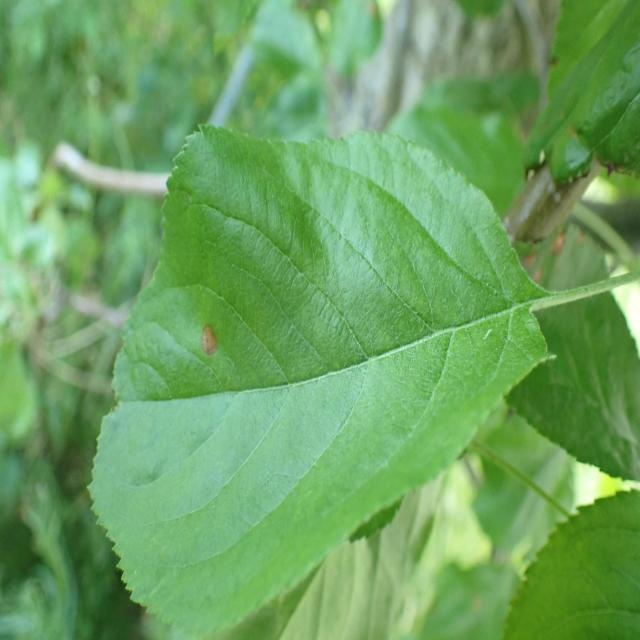frog-eye-leaf-spot: (85, 121, 558, 635)
